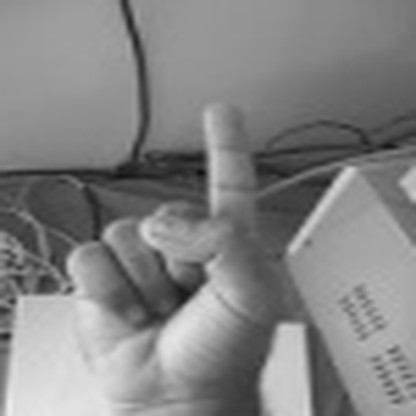d: (58, 94, 270, 415)
